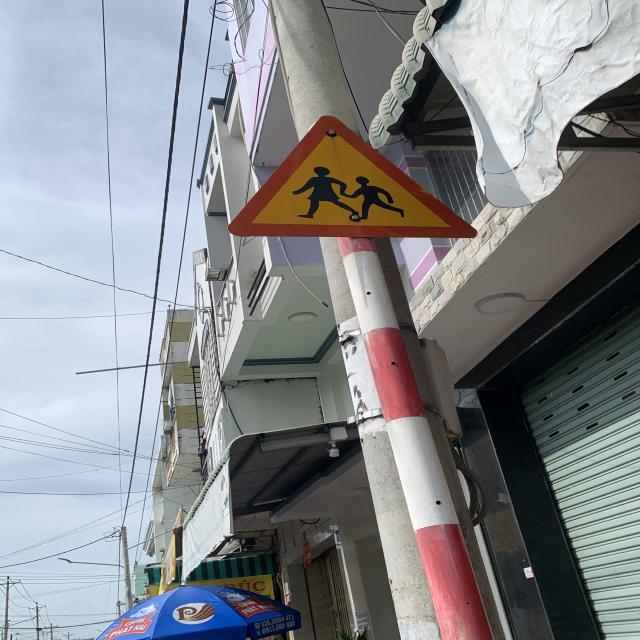Vong_Xuyen: (227, 114, 481, 240)
